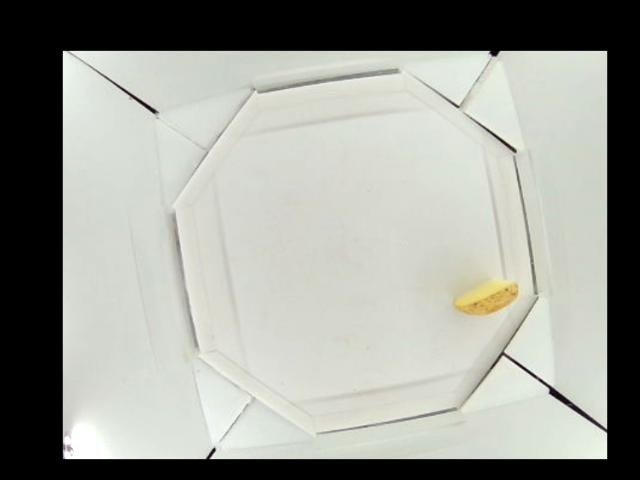Potato: (454, 277, 520, 317)
